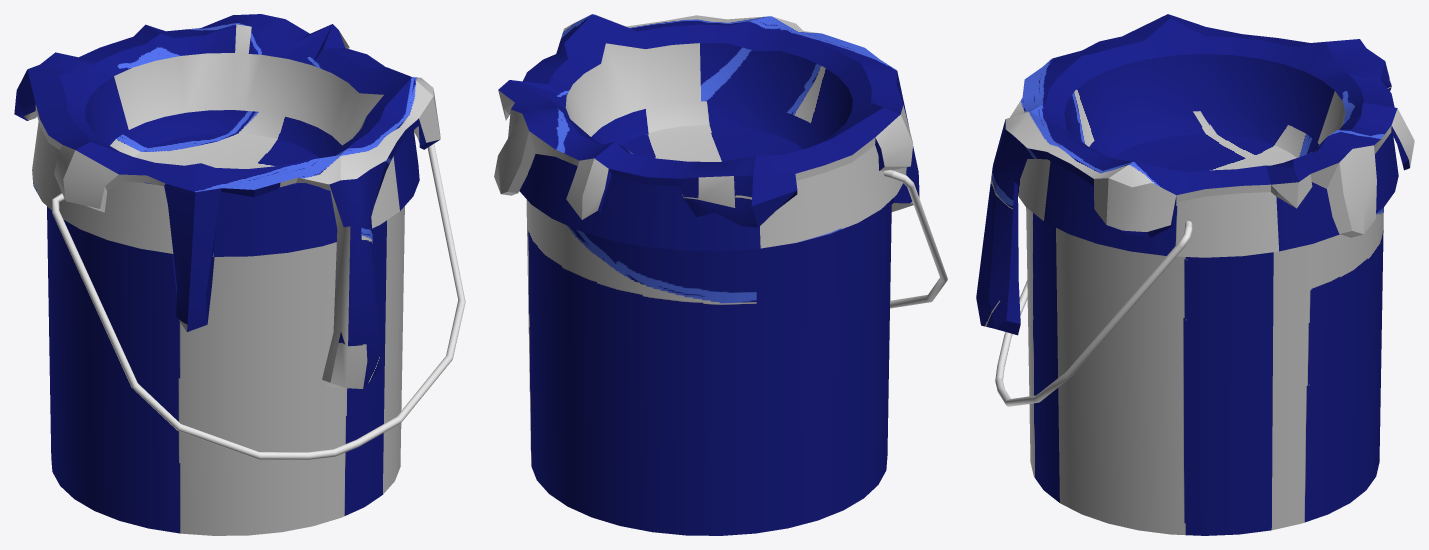
File: bucket2.fbx
The picture shows the model from 3 angles, left to right: view 1: azimuth 30°, elevation 25°; view 2: azimuth 150°, elevation 25°; view 3: azimuth 270°, elevation 25°; orthographic projection. The views are drawn at different scales.
Parts seen in each view (by area): view 1: Cylinder.002, Cylinder.003, Cylinder.004; view 2: Cylinder.002, Cylinder.003, Cylinder.004; view 3: Cylinder.002, Cylinder.003, Cylinder.004.
Boxes of the visible parts, left/top/right/bottom form: Cylinder.002: left=32, top=122, right=419, bottom=535; Cylinder.003: left=14, top=14, right=440, bottom=388; Cylinder.004: left=52, top=144, right=465, bottom=459; Cylinder.002: left=519, top=145, right=906, bottom=535; Cylinder.003: left=494, top=14, right=919, bottom=227; Cylinder.004: left=884, top=170, right=947, bottom=308; Cylinder.002: left=1018, top=132, right=1398, bottom=535; Cylinder.003: left=976, top=14, right=1414, bottom=335; Cylinder.004: left=995, top=221, right=1192, bottom=406.
Bounding box in the file's own units: 224 × 213 × 226.
Materials: 1 (1 with a texture image).
